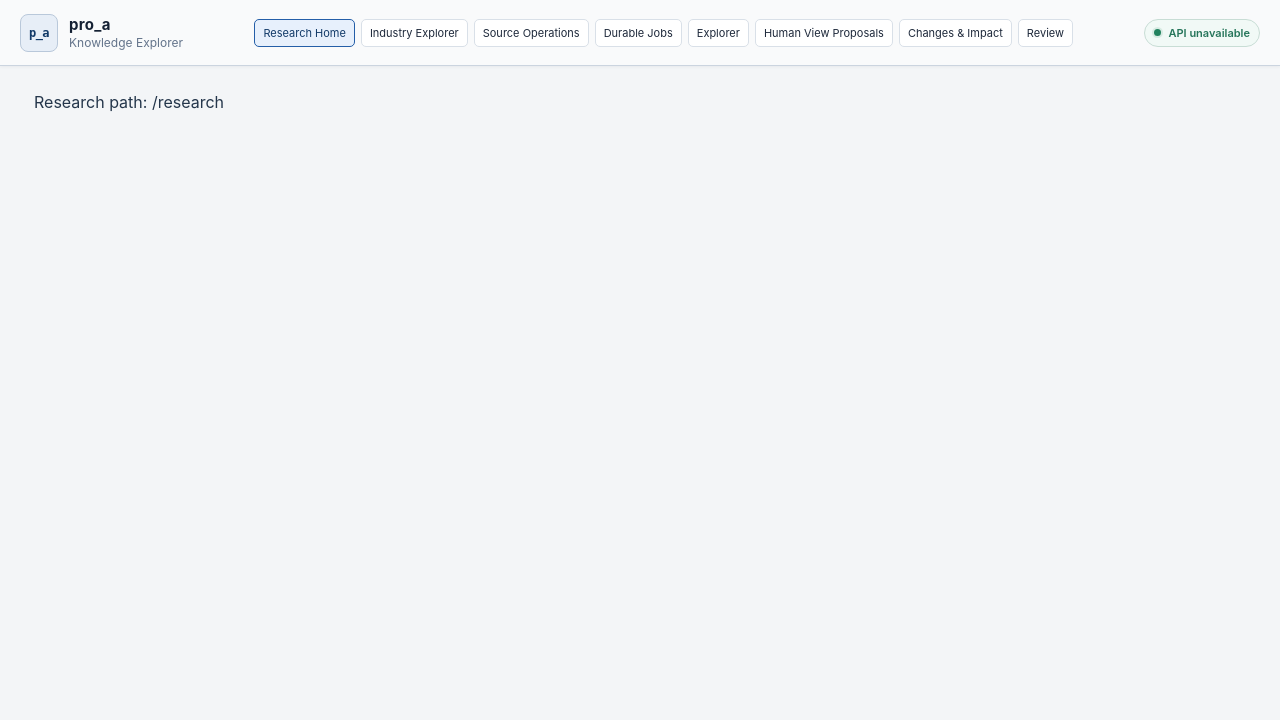
it: App error boundary › preserves the bounded Research and classic Explorer layouts across route changes
Click the button "Explorer" at (718, 32), box [688,18,749,46]
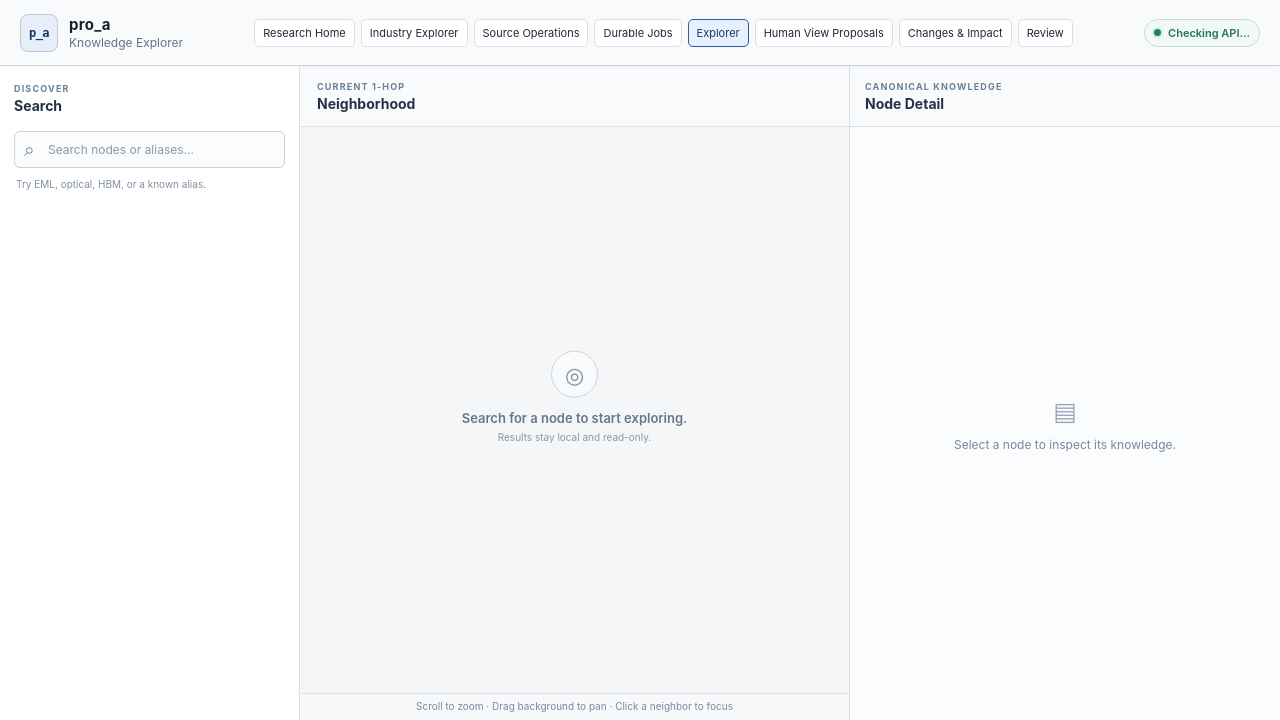
Check: the element with class "workspace-grid" is shown
Click the button "Research Home" at (304, 32), box [254,18,355,46]
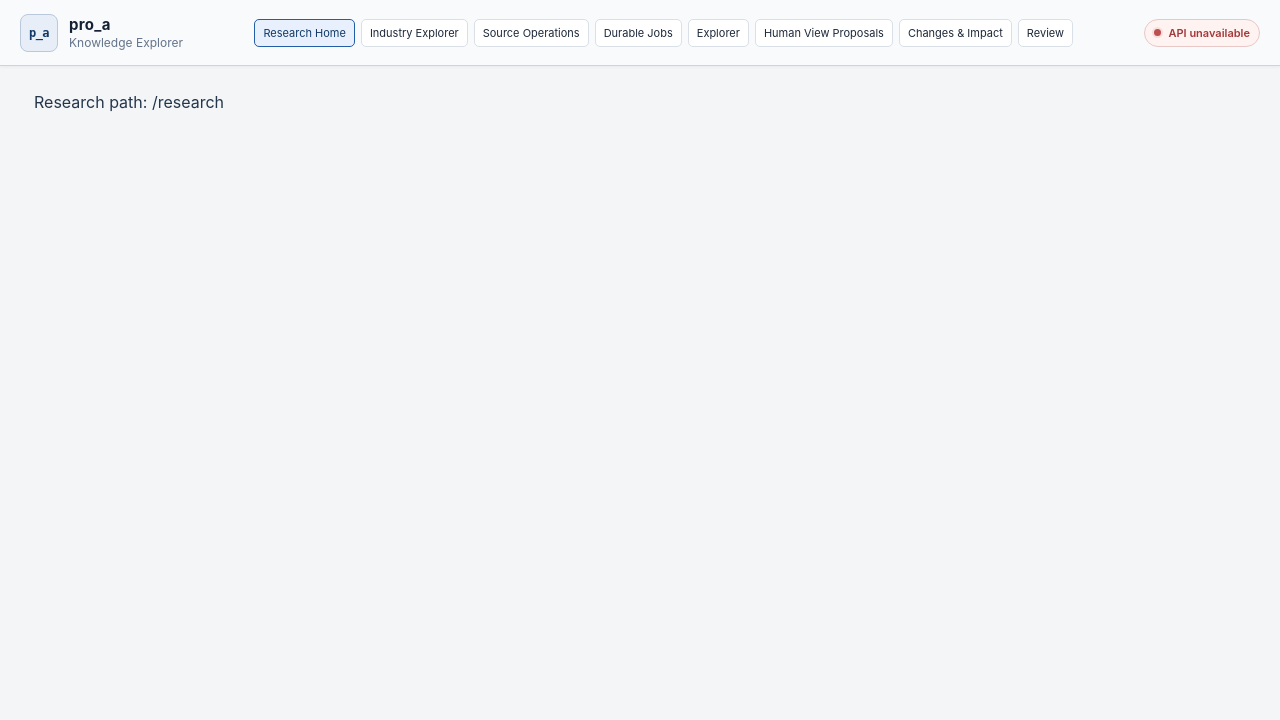
Check: the text "Research path: /research" is shown
